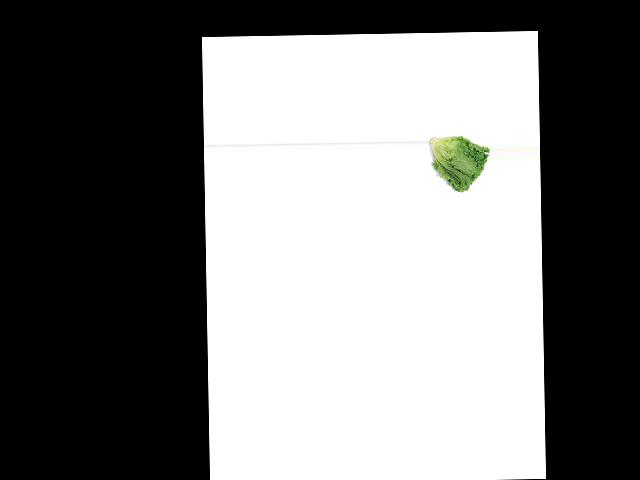lettuce: (427, 131, 490, 197)
